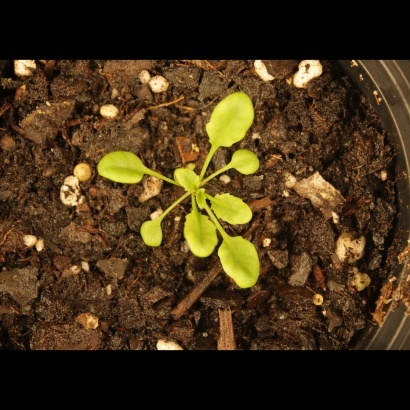leaf: (205, 88, 257, 147), (218, 230, 264, 296), (94, 145, 155, 193), (182, 206, 219, 264), (210, 192, 254, 225), (224, 147, 265, 180), (136, 217, 168, 251), (170, 163, 202, 195), (191, 189, 214, 212)
